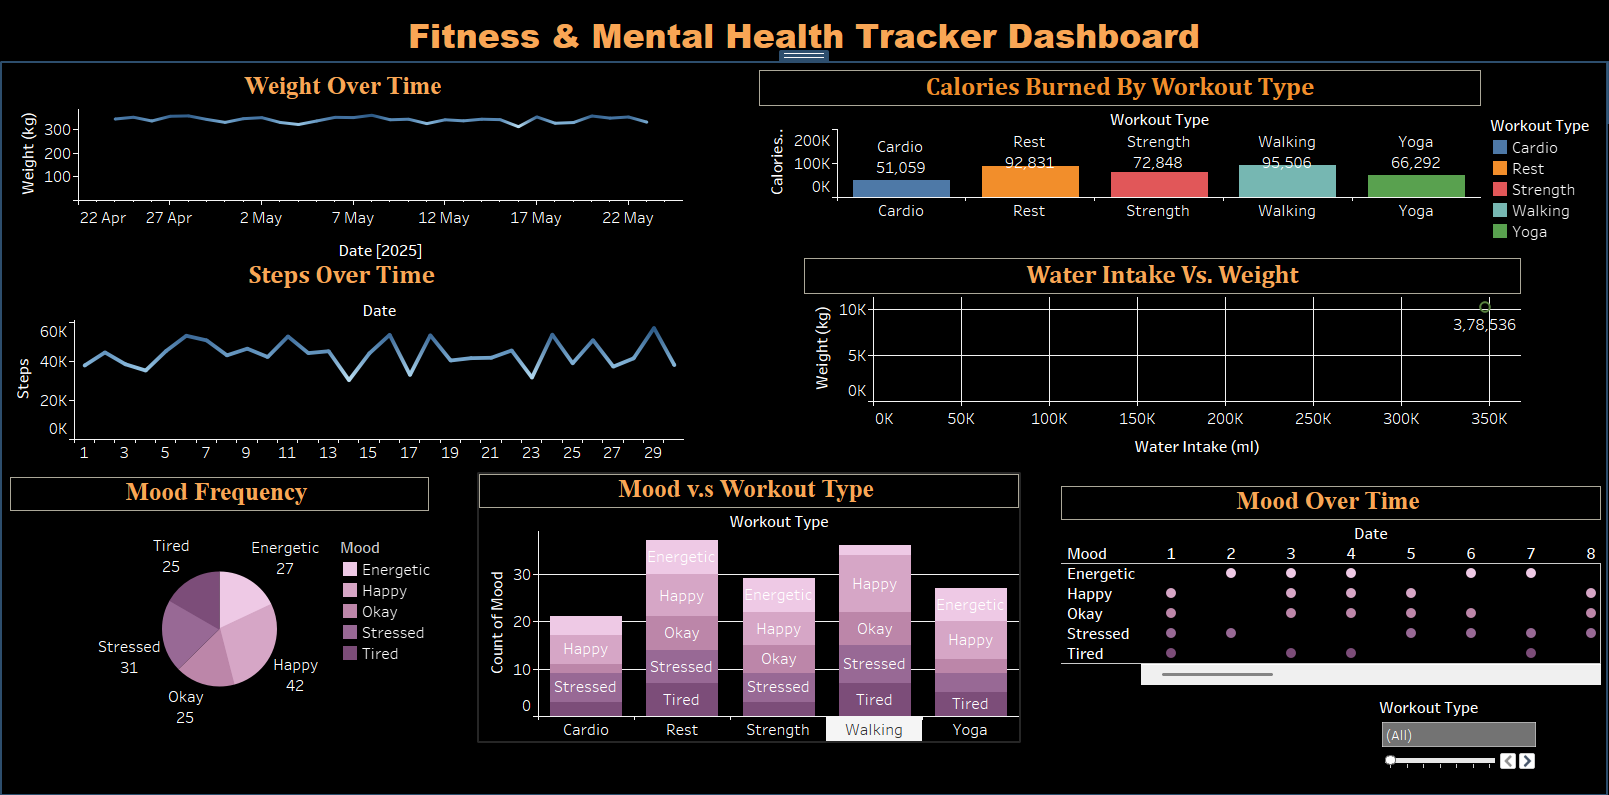

Layout of this report page (visuals, bound fields, positions):
{"tool":"tableau","page":{"name":"Dashboard 1","canvas":[1000,1000],"units":"permille","ordinal":0},"visuals":[{"type":"title","box":[4.9,10,990.1,68.6]},{"type":"worksheet","title":"weight over time lien chart ","mark":"Automatic","rows":["Weight (kg)"],"cols":["Date"],"box":[9.9,82.3,415.4,243.1]},{"type":"worksheet","title":"Bar  chart ","mark":"Automatic","rows":["Calories Burned"],"cols":["Workout Type"],"box":[472.2,87.3,445.7,189.5]},{"type":"worksheet","title":"line chart 1","mark":"Automatic","rows":["Steps"],"cols":["Date"],"box":[6.8,318,419.1,260.6]},{"type":"worksheet","title":"scatter water chart ","mark":"Automatic","rows":["Weight (kg)"],"cols":["Water Intake (ml)"],"box":[500,321.7,442.6,256.9]},{"type":"worksheet","title":"stacked bar","mark":"Bar","rows":["Mood"],"cols":["Workout Type"],"box":[299.4,591,333.3,332.9]},{"type":"worksheet","title":"pie mood","mark":"Pie","box":[9.9,594.8,258.6,332.9]},{"type":"worksheet","title":"clr coded dot plot ","mark":"Circle","rows":["Mood"],"cols":["Date"],"box":[658.6,606,333.3,332.9]},{"type":"legend","title":"pie mood","param":"[federated.14ookzz1p1u9od13i3u761fjm28t].[none:Mood:nk]","box":[213.6,669.6,86.4,158.3]},{"type":"filter","title":"clr coded dot plot ","param":"[federated.14ookzz1p1u9od13i3u761fjm28t].[attr:Workout Type:nk]","box":[854.9,869.1,98.8,101]}]}

Visuals, with their boxes on the dashboard's canvas, which has no fixed pixel size, in thousandths of its width and height (x1, y1, x2, y2). These are canvas units, not pixel positions in the 1609x795 screenshot, which may show the page scaled, cropped or inside an application window:
title: bbox(5, 10, 995, 79)
"weight over time lien chart " worksheet: bbox(10, 82, 425, 325)
"Bar  chart " worksheet: bbox(472, 87, 918, 277)
"line chart 1" worksheet: bbox(7, 318, 426, 579)
"scatter water chart " worksheet: bbox(500, 322, 943, 579)
"stacked bar" worksheet (Bar marks): bbox(299, 591, 633, 924)
"pie mood" worksheet (Pie marks): bbox(10, 595, 268, 928)
"clr coded dot plot " worksheet (Circle marks): bbox(659, 606, 992, 939)
"pie mood" legend: bbox(214, 670, 300, 828)
"clr coded dot plot " filter: bbox(855, 869, 954, 970)
